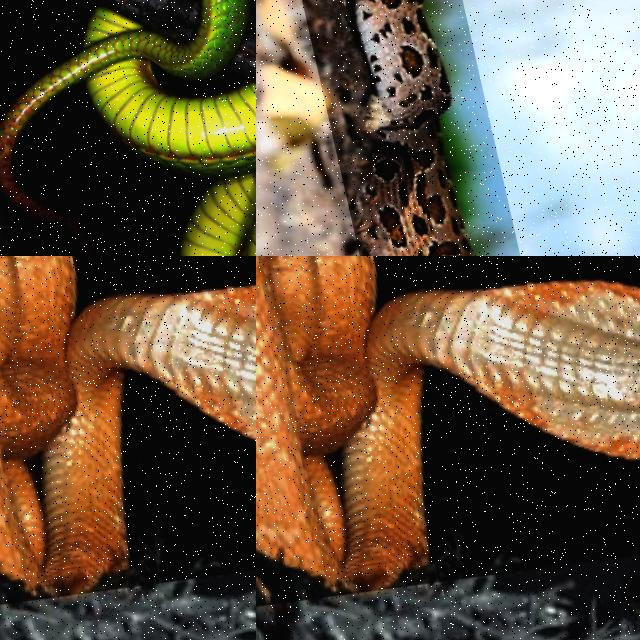Daboia siamensis: (353, 0, 470, 255)
Naja kaouthia: (256, 256, 639, 592), (0, 256, 255, 596)
Trimeresurus: (0, 0, 255, 255)
snake: (256, 256, 639, 592), (0, 256, 255, 596), (0, 0, 255, 255), (353, 0, 470, 255)
